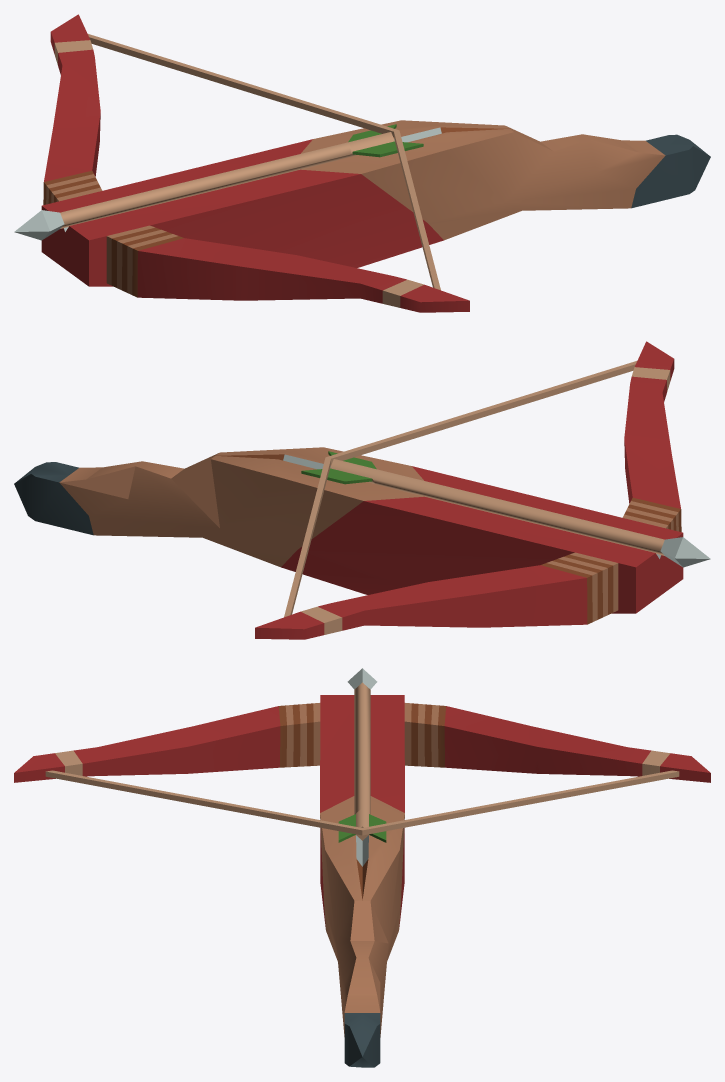
The model's file is Bolt_Crossbow.fbx.
The picture shows the model from 3 angles, top to bottom: view 1: azimuth 30°, elevation 25°; view 2: azimuth 150°, elevation 25°; view 3: azimuth 270°, elevation 25°; orthographic projection. The views are drawn at different scales.
Parts seen in each view (by area): view 1: Crossbow, Bolt; view 2: Crossbow, Bolt; view 3: Crossbow, Bolt.
Boxes of the visible parts, x1=… form: Crossbow: x1=41, y1=14, x2=710, y2=312; Bolt: x1=14, y1=124, x2=423, y2=240; Crossbow: x1=14, y1=341, x2=683, y2=639; Bolt: x1=301, y1=451, x2=710, y2=567; Crossbow: x1=14, y1=695, x2=710, y2=1067; Bolt: x1=338, y1=668, x2=386, y2=842.
Bounding box in the file's own units: 62.84 × 11.41 × 61.13.
